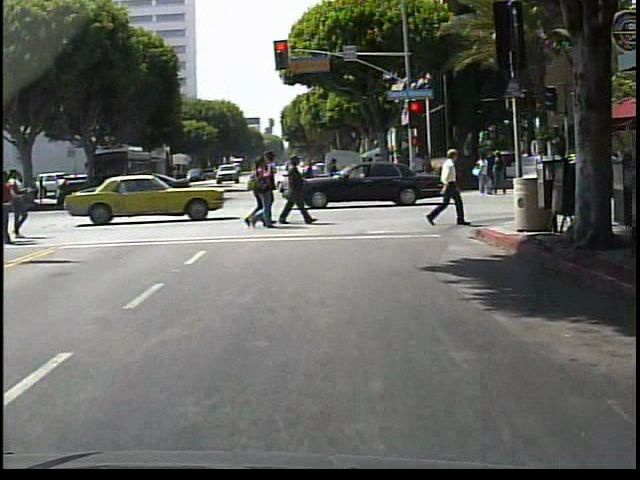person: (429, 141, 472, 234)
